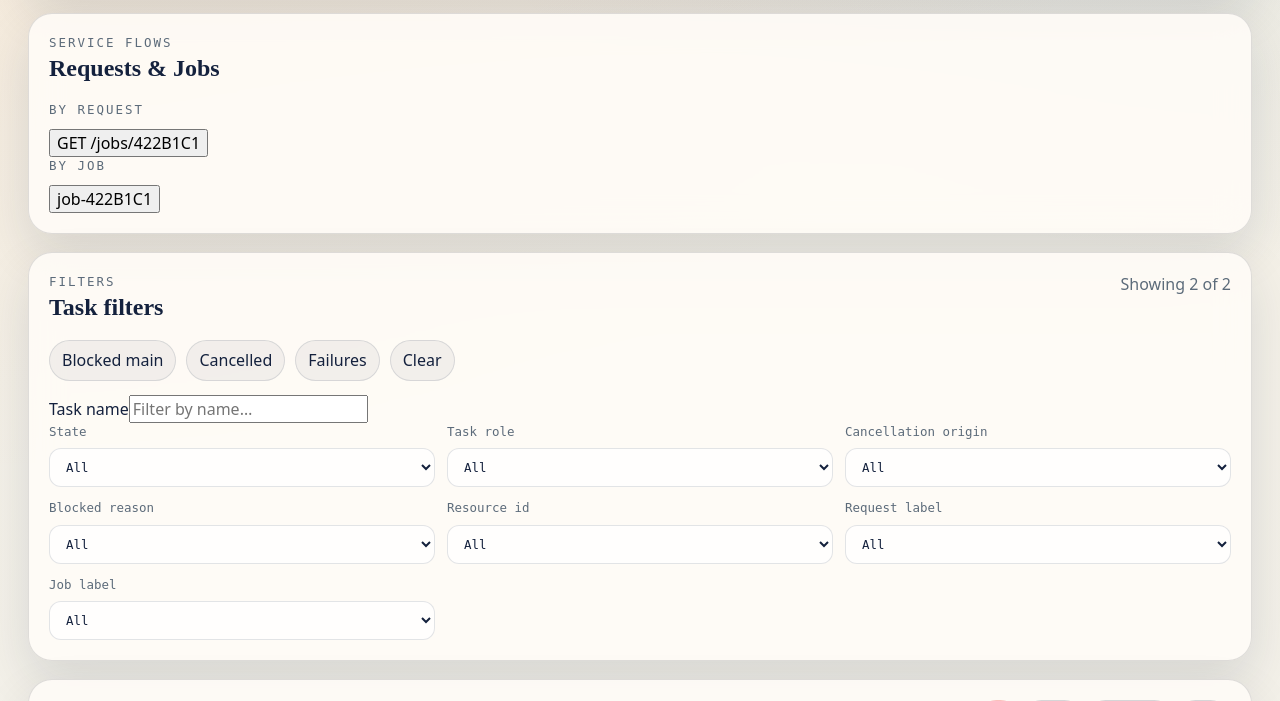
Scenario: App › drives cancellation and blocked drilldowns from filter presets
(page scrolled)
Click the button "Cancelled" at (236, 360), box [186,340,285,381]
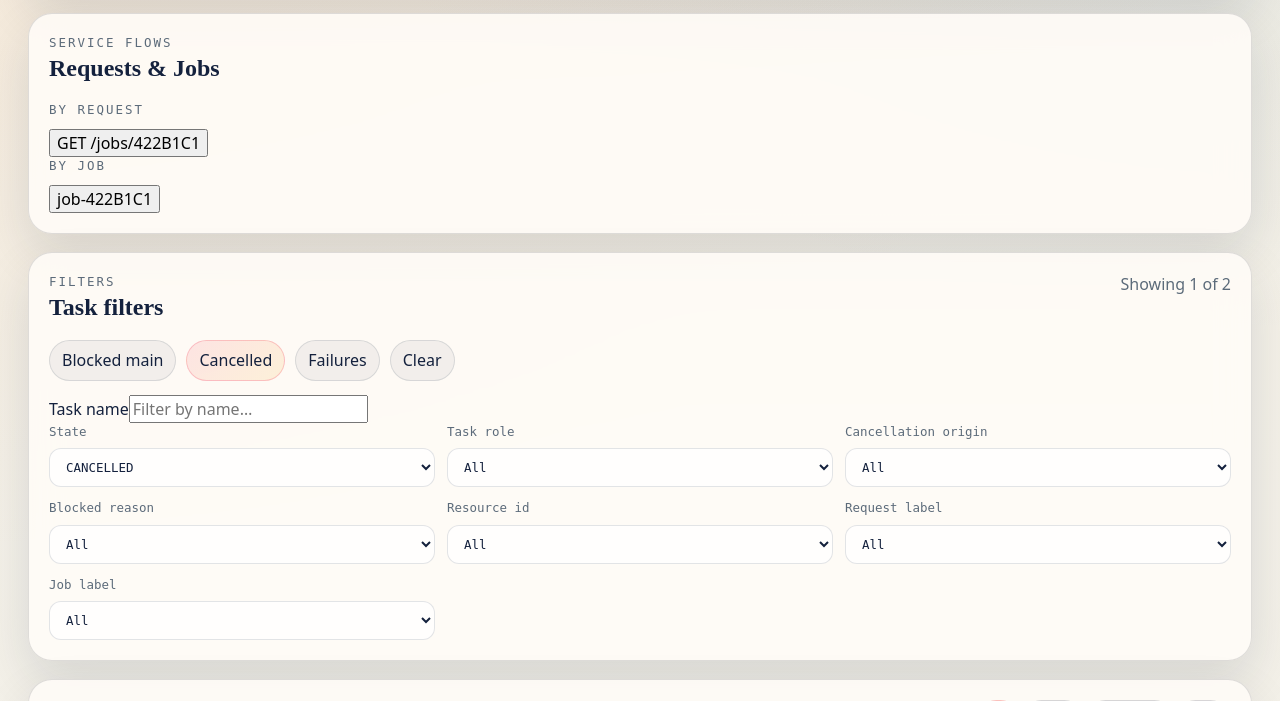
Now the text "Showing 1 of 2" is shown, box [1121,273,1231,296]
Click the button "Blocked main" at (113, 360), box [49,340,176,381]
(page scrolled)
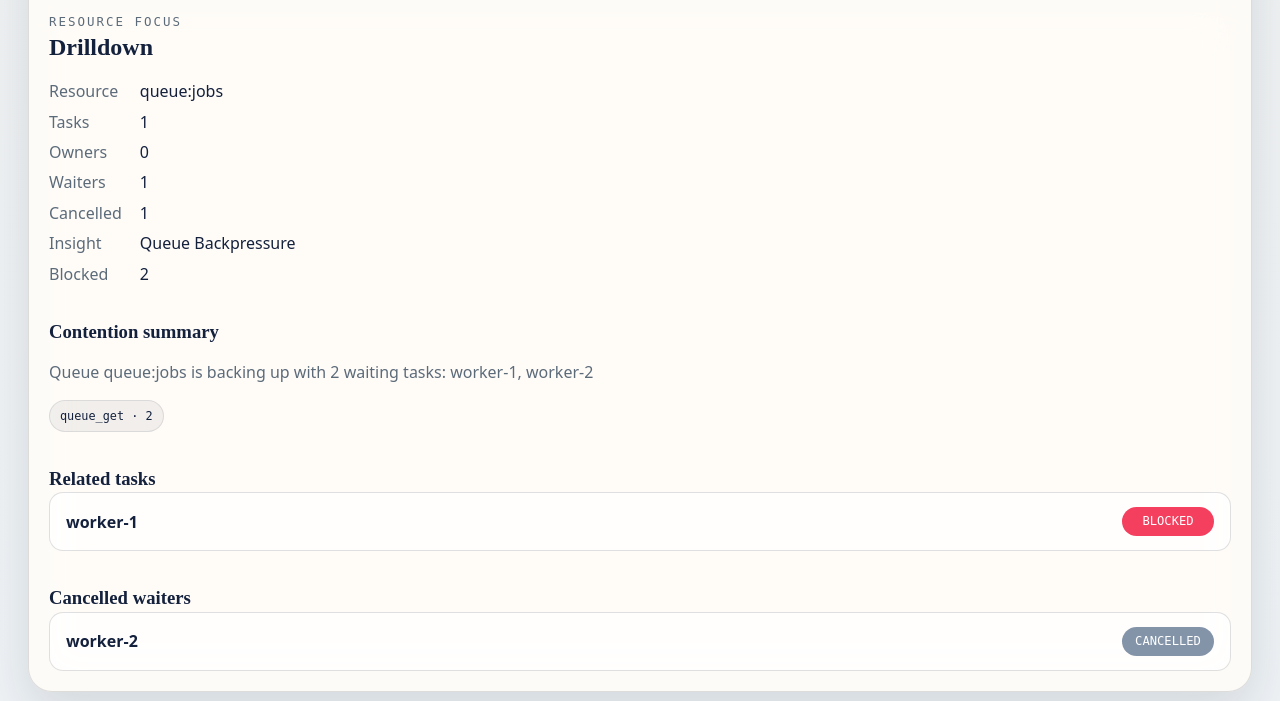
Now the button "worker-1 BLOCKED" is shown, box [49,492,1231,551]
Now the text "Queue Backpressure" is shown, box [140,232,296,254]
Now the text "queue_get · 2" is shown, box [49,400,164,432]
